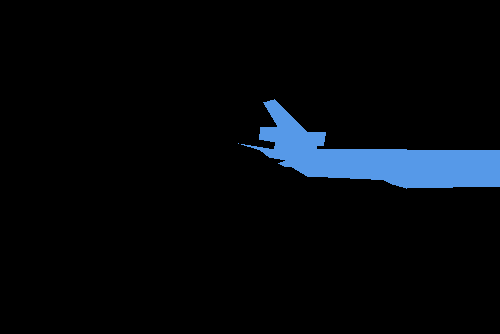Airplane: (238, 99, 500, 189)
